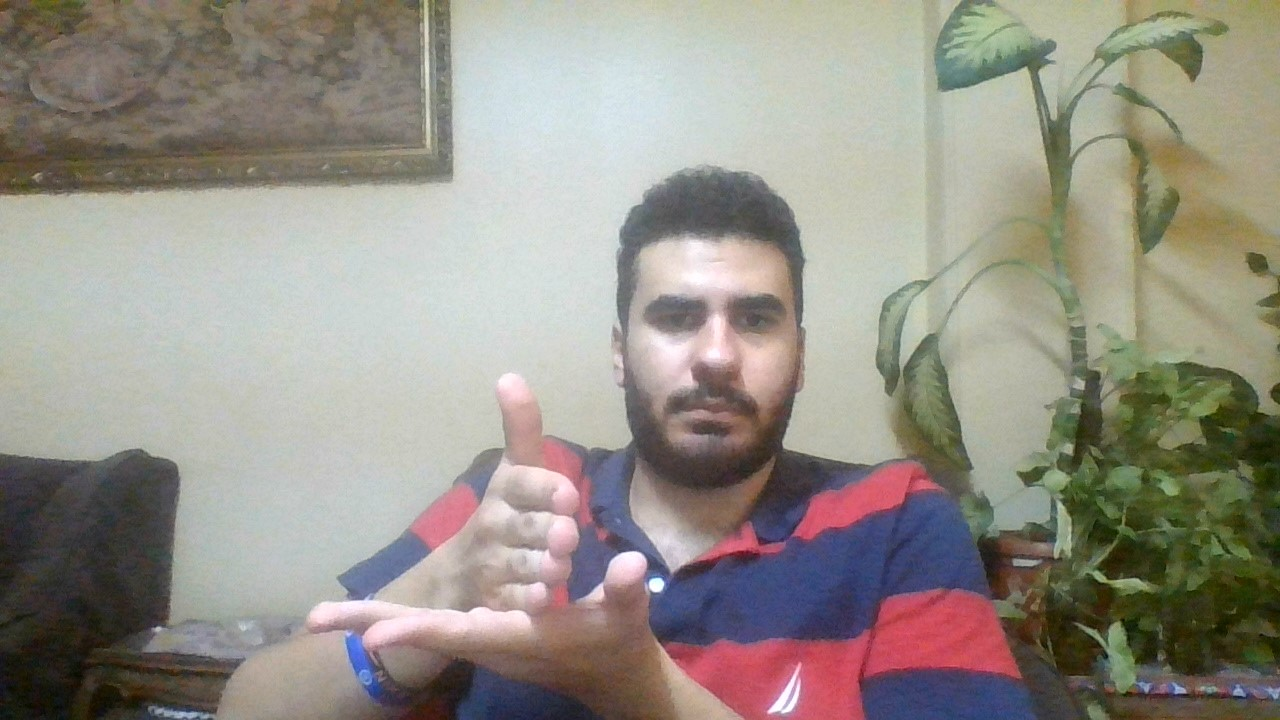stop: (290, 363, 653, 682)
